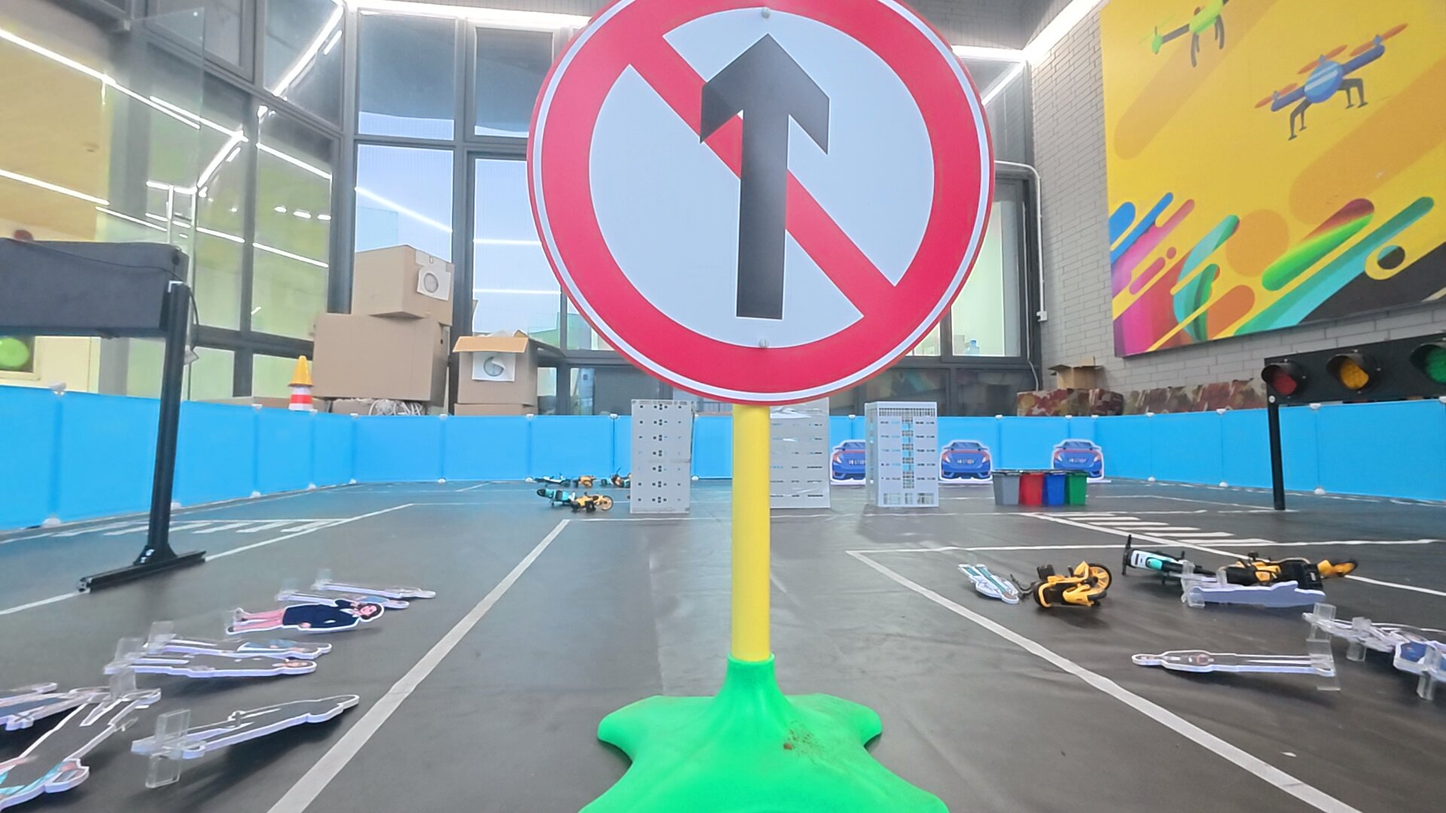obstacle: (525, 0, 989, 407)
